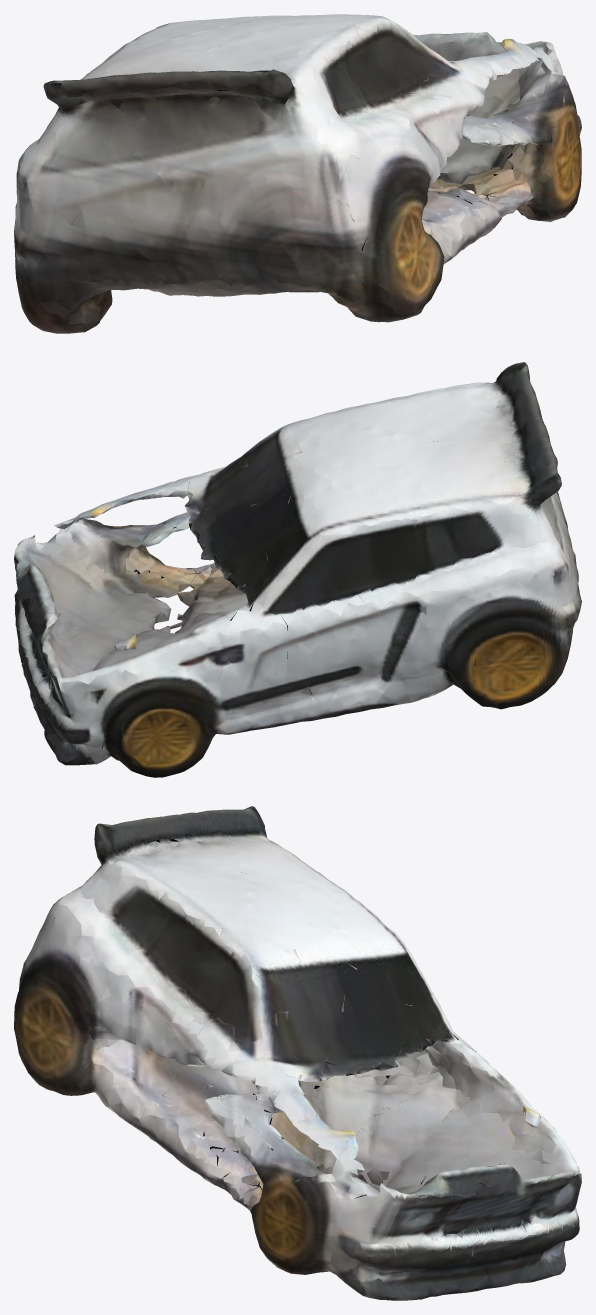
3 renders of one model, top to bottom at view 1: azimuth 30°, elevation 25°; view 2: azimuth 150°, elevation 25°; view 3: azimuth 270°, elevation 25°, orthographic. The views are drawn at different scales.
Visible parts, largest first — view 1: world; view 2: world; view 3: world.
Part boxes in pixels (x1,y1,x2,y2): world: [14, 14, 581, 333]; world: [14, 362, 581, 777]; world: [14, 806, 581, 1300].
Bounding box in the file's own units: 0.9751 × 0.5715 × 0.8885.
Materials: 1 (1 with a texture image).
